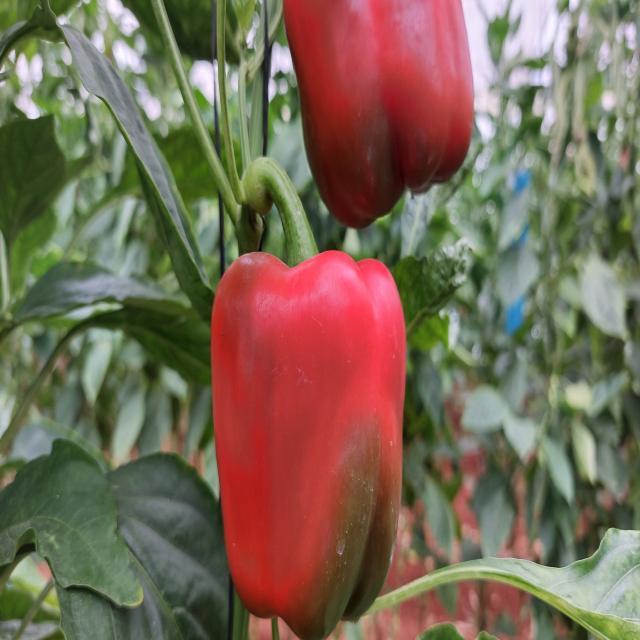Red-Ready-to-Harvest: (201, 231, 418, 627), (288, 5, 506, 228)
